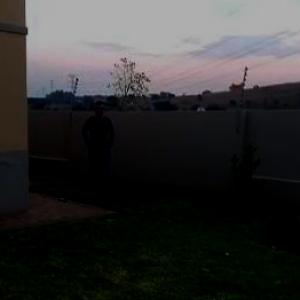follow: (80, 99, 116, 202)
